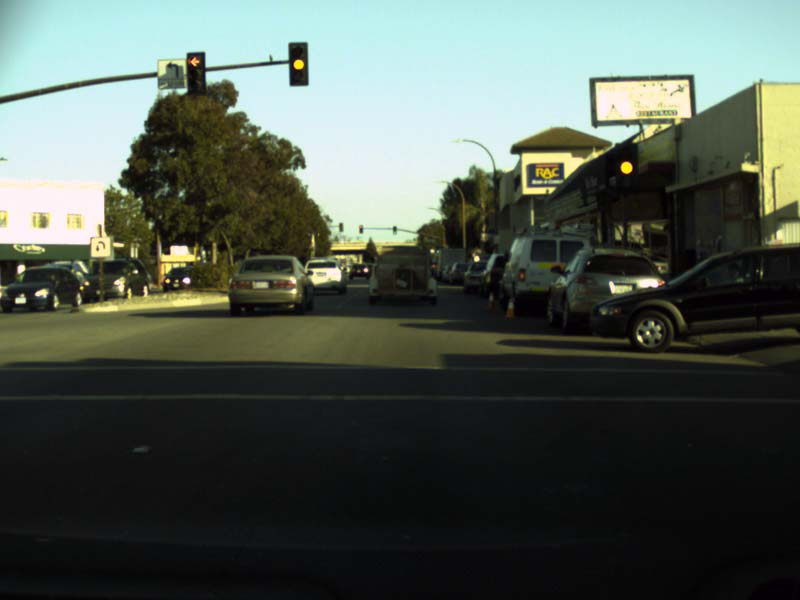Green: (392, 225, 396, 234)
Red: (187, 52, 205, 93), (358, 225, 363, 233)
Yellow: (614, 143, 637, 191), (288, 42, 308, 85)
